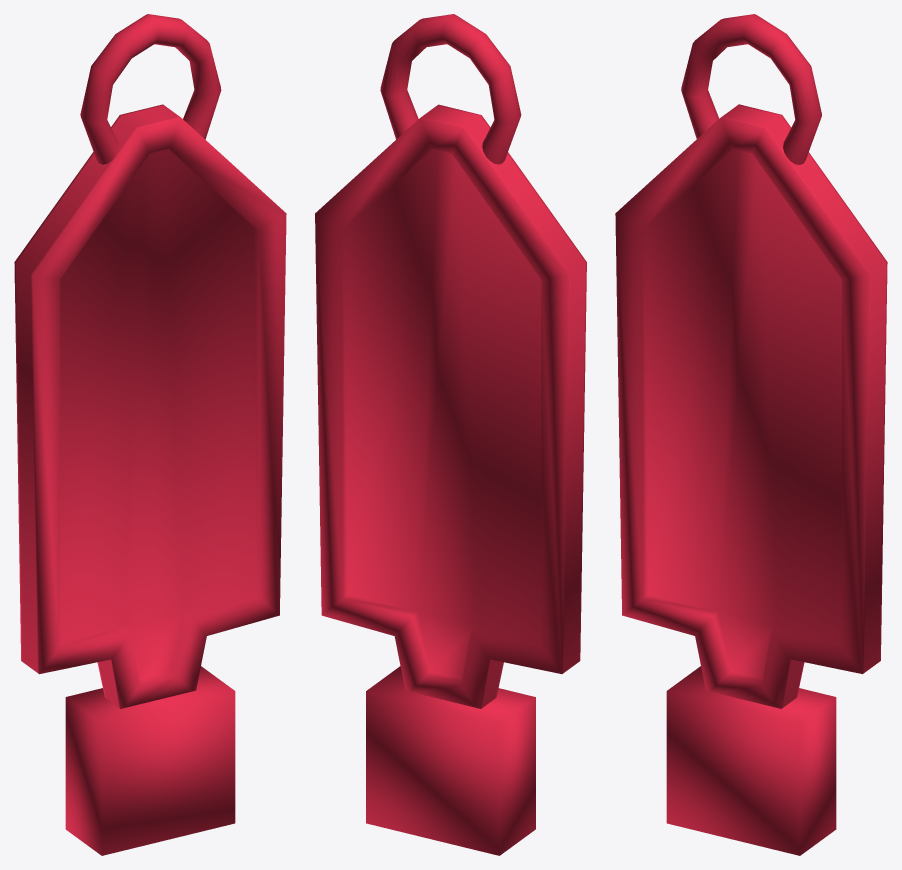
File: M_Medaillon_Cube.fbx
The picture shows the model from 3 angles, left to right: view 1: azimuth 30°, elevation 25°; view 2: azimuth 150°, elevation 25°; view 3: azimuth 330°, elevation 25°; orthographic projection.
Visible parts, largest first — view 1: Medaillon1_Cube; view 2: Medaillon1_Cube; view 3: Medaillon1_Cube.
Boxes of the visible parts, x1,y1,x2,y2 form: Medaillon1_Cube: (14,14,286,855); Medaillon1_Cube: (315,14,586,855); Medaillon1_Cube: (615,14,887,855).
Size of the model in its own units: 6.84 by 20.87 by 1.69.
